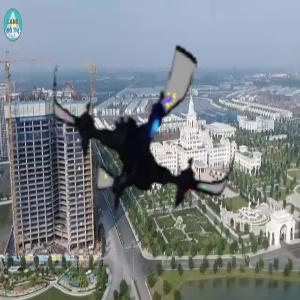drone: (41, 23, 249, 231)
